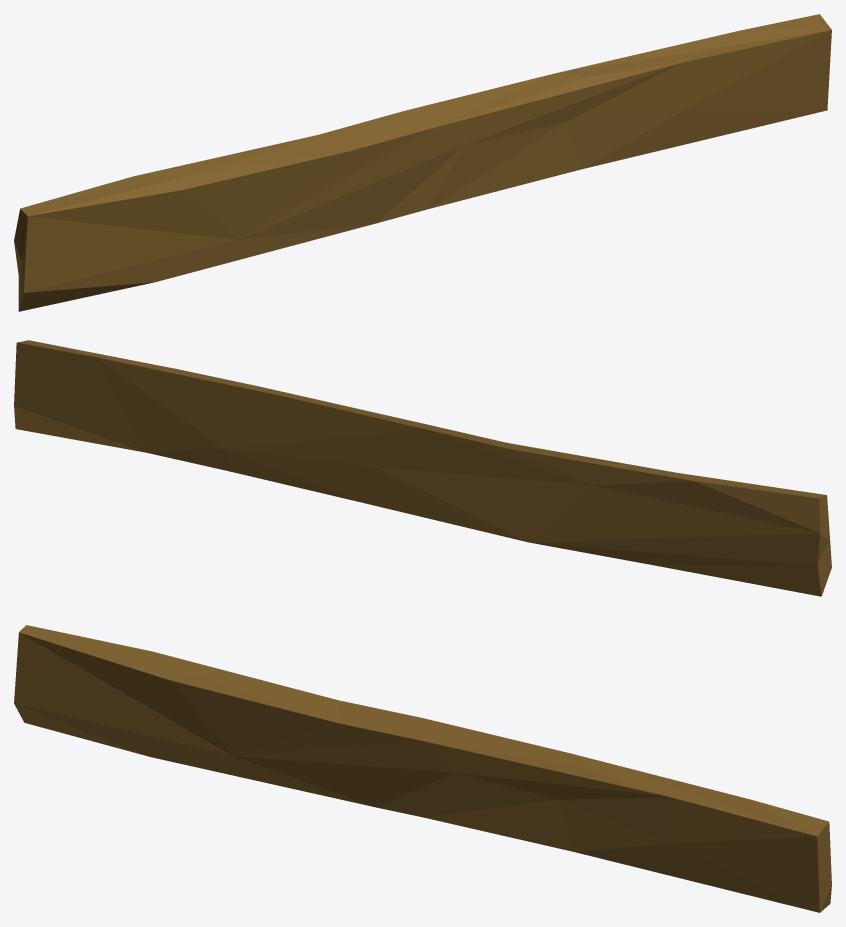
File: Prototype Plank 02.FBX
The picture shows the model from 3 angles, top to bottom: view 1: azimuth 30°, elevation 25°; view 2: azimuth 150°, elevation 25°; view 3: azimuth 330°, elevation 25°; orthographic projection. The views are drawn at different scales.
Visible parts, largest first — view 1: Prototype Plank 01; view 2: Prototype Plank 01; view 3: Prototype Plank 01.
Part boxes in pixels (left/top/right/bottom): Prototype Plank 01: left=14, top=14, right=831, bottom=311; Prototype Plank 01: left=14, top=340, right=831, bottom=596; Prototype Plank 01: left=14, top=625, right=831, bottom=912.
Bounding box in the file's own units: 98.64 × 6.6 × 12.63.
